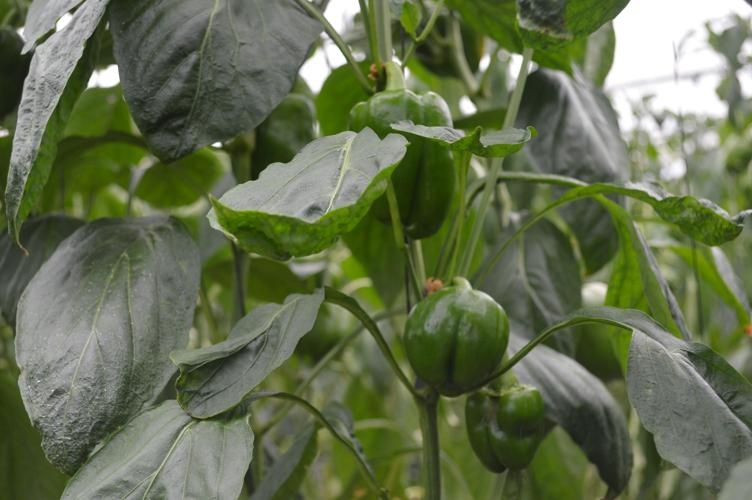BellPepper: (344, 76, 454, 256), (395, 267, 511, 396), (449, 369, 559, 484), (236, 89, 339, 193)
